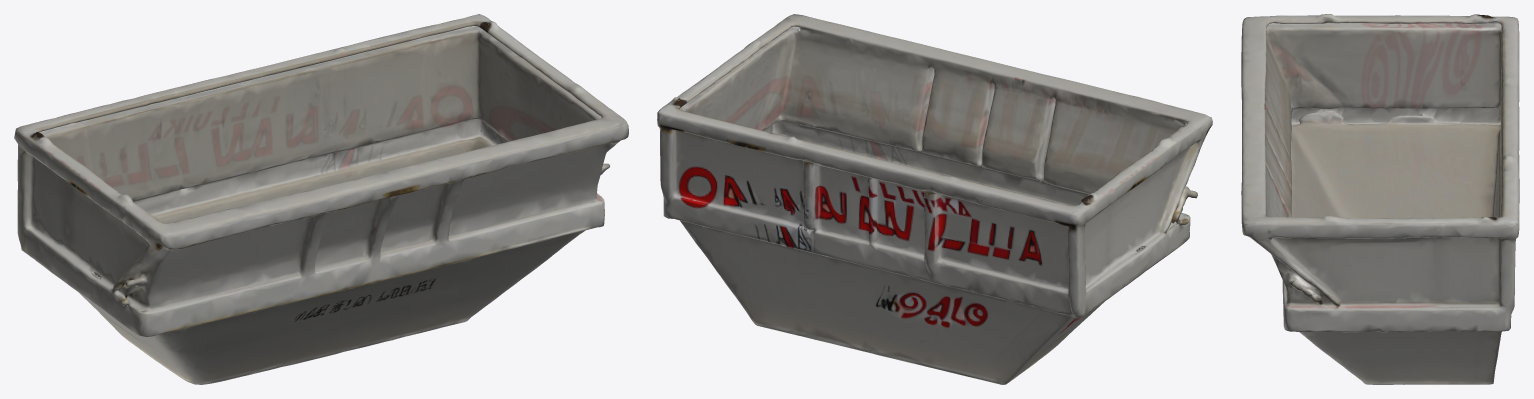
Rendered from skip-9m3-estanc.glb.
3 renders of one model, left to right at view 1: azimuth 30°, elevation 25°; view 2: azimuth 150°, elevation 25°; view 3: azimuth 270°, elevation 25°, orthographic. The views are drawn at different scales.
Size of the model in its own units: 2.03 by 0.9136 by 1.1.
Materials: 1 (1 with a texture image).
